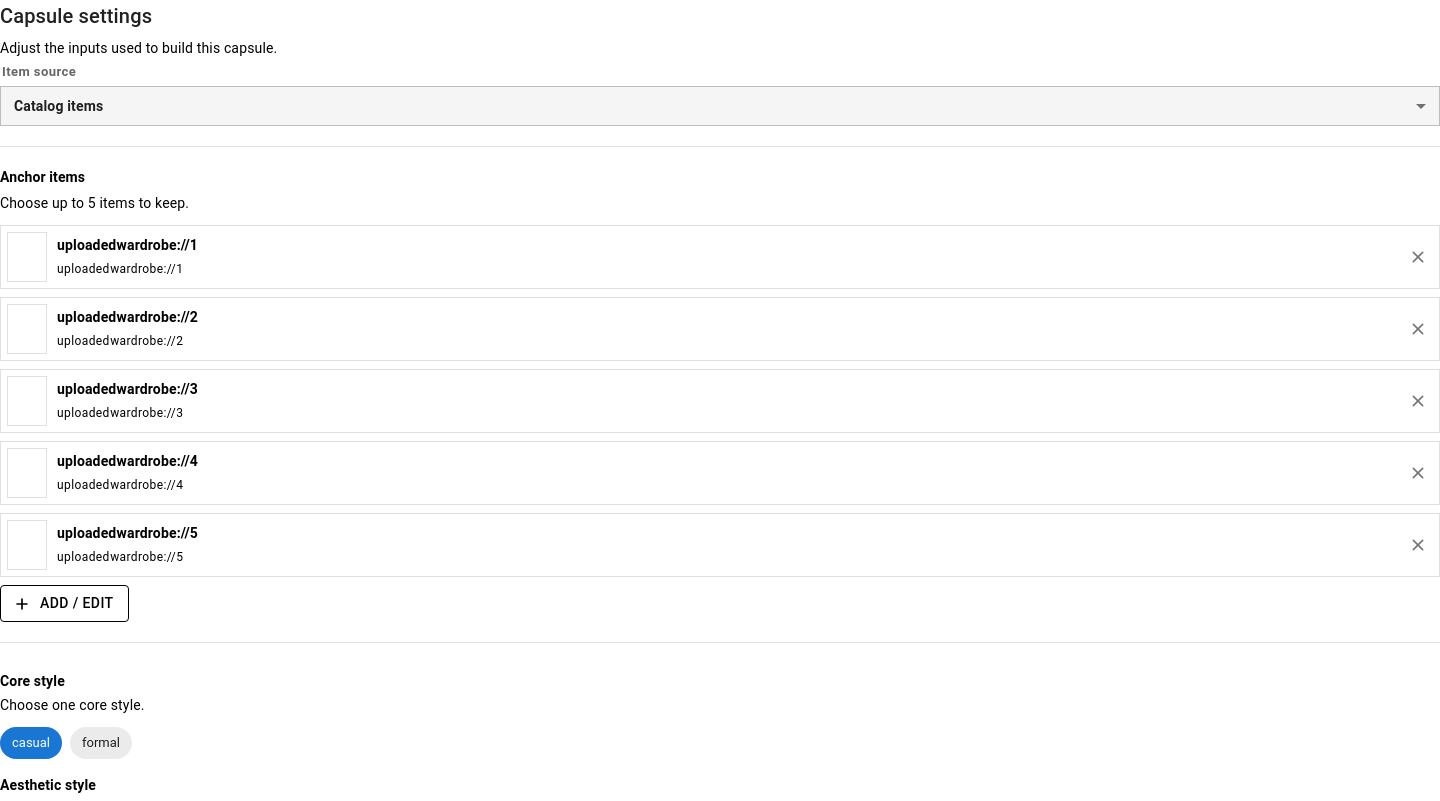
Test: ProfileFiltersSidebar › disables a sixth unselected anchor picker item
This screenshot has width=1440, height=801.
Click the button "Add / edit" at x=65, y=604, box [0,585,130,622]
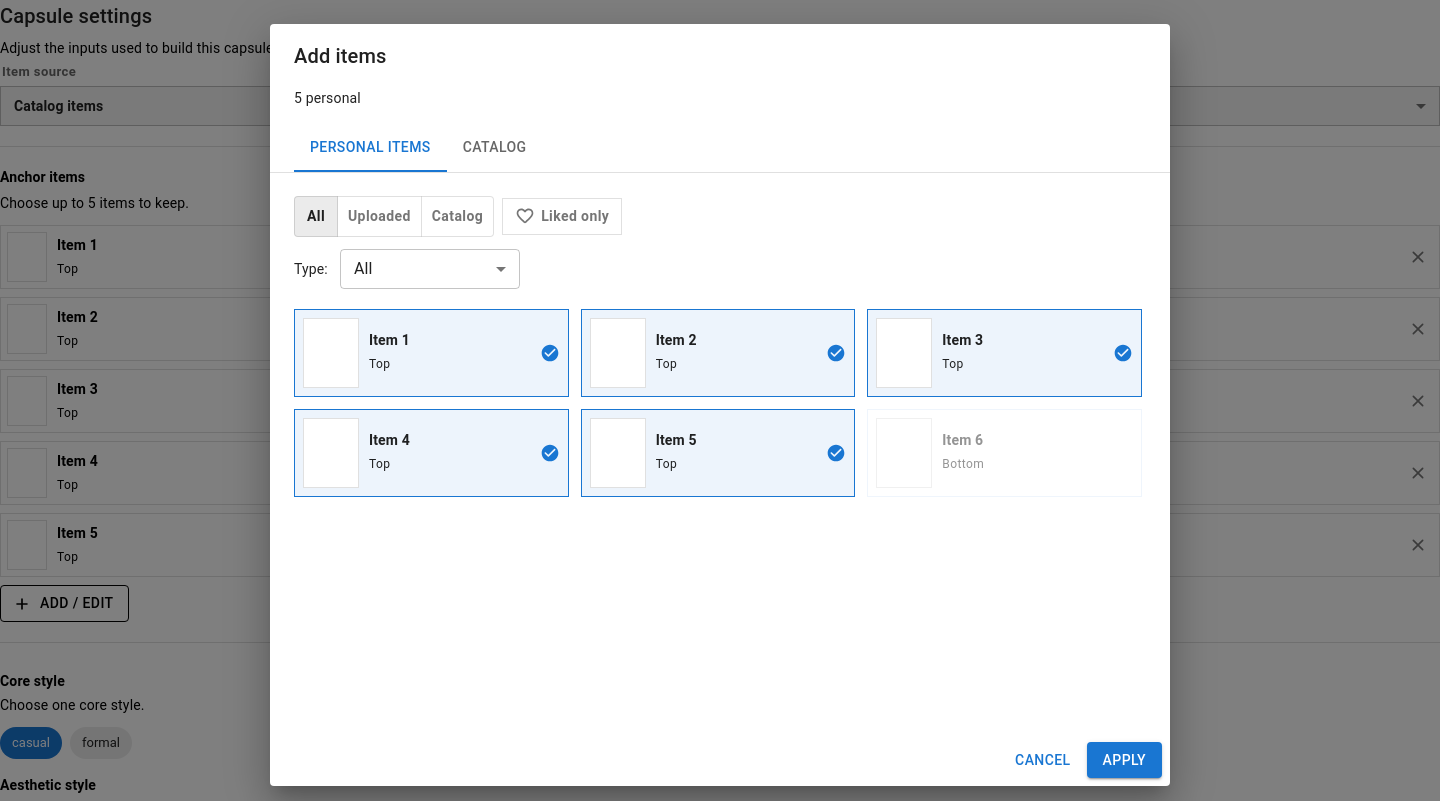
Expected: the button "Item 6 Bottom" is disabled, [867,408,1142,496]
